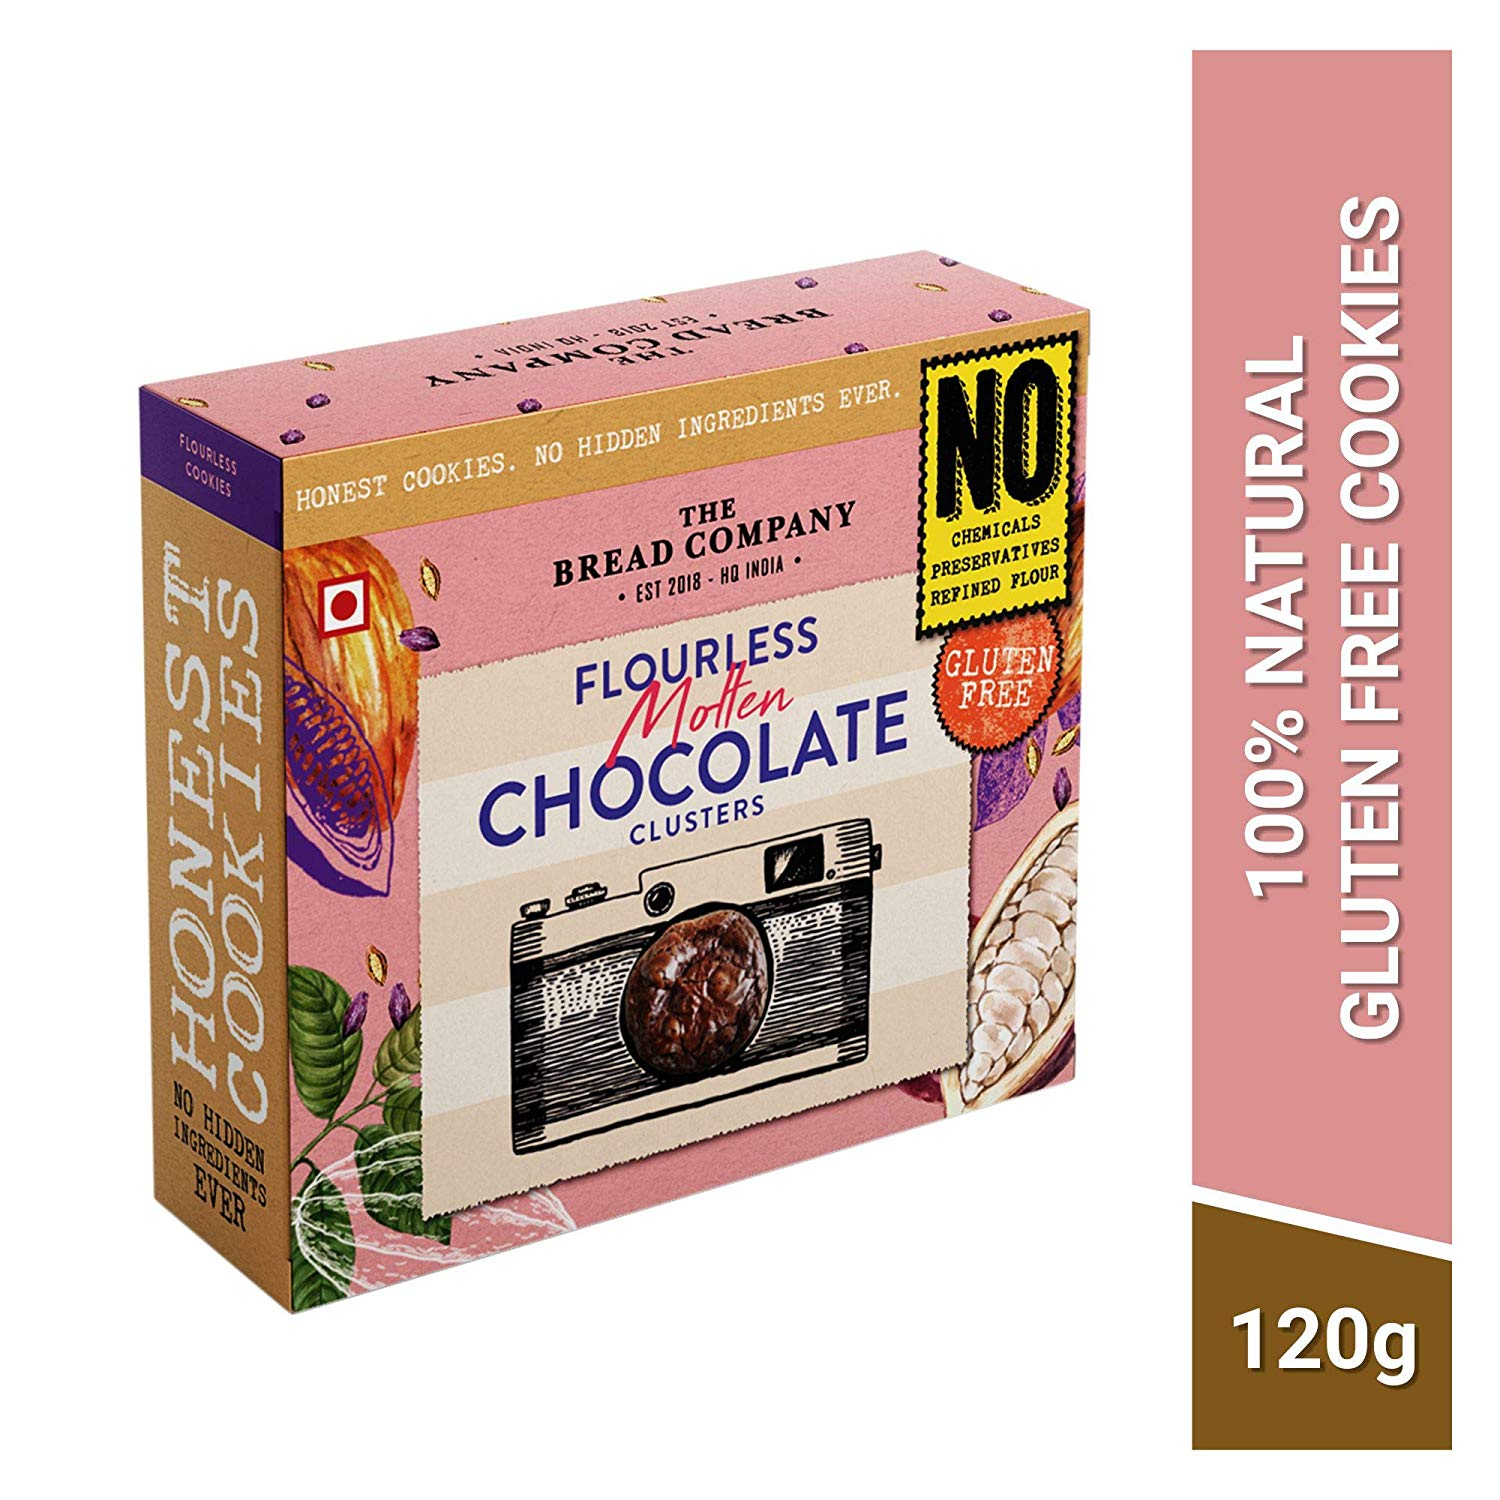nonveg_red: (317, 570, 375, 637)
